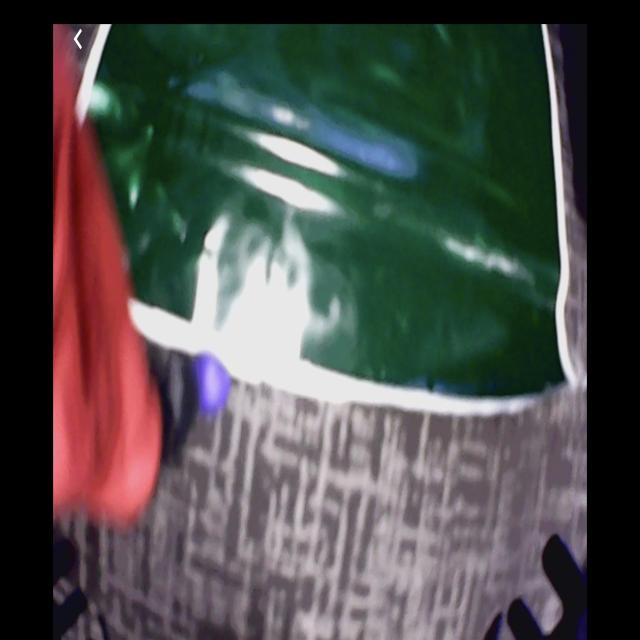ball: (198, 353, 227, 412)
